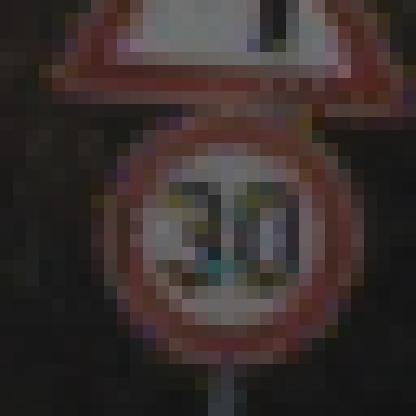Speed Limit 30: (106, 114, 353, 362)
